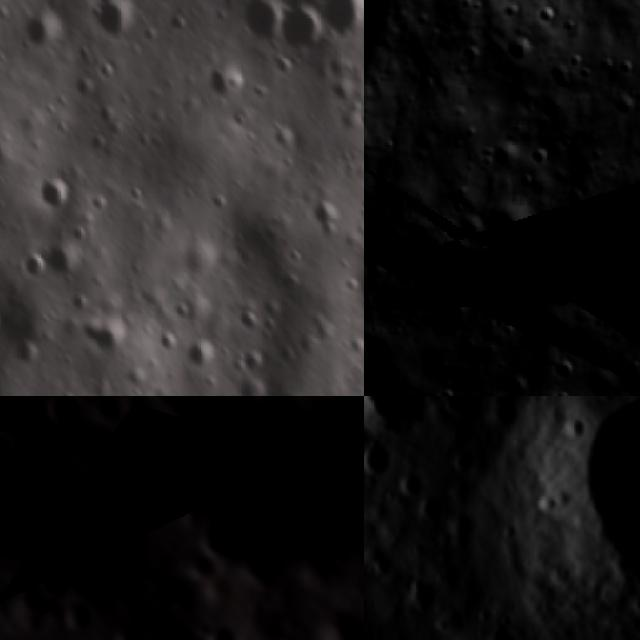crater: (466, 396, 640, 640), (364, 396, 467, 455), (477, 194, 553, 257), (85, 0, 151, 49), (591, 274, 640, 337), (72, 313, 139, 358), (277, 0, 325, 58), (18, 5, 68, 56), (509, 276, 560, 323), (313, 0, 364, 42), (32, 169, 80, 213), (546, 348, 590, 396), (237, 0, 280, 43), (180, 336, 223, 376), (204, 60, 244, 97), (5, 334, 46, 368), (329, 99, 364, 137), (14, 248, 48, 284), (268, 122, 303, 156), (548, 60, 576, 102), (526, 143, 560, 176), (580, 207, 615, 238), (92, 100, 126, 131), (390, 260, 424, 291), (489, 137, 521, 169), (612, 52, 640, 87), (621, 186, 640, 229), (70, 74, 96, 105), (414, 69, 443, 94), (533, 0, 560, 26), (562, 205, 585, 232), (560, 12, 583, 36), (205, 625, 240, 640), (433, 382, 467, 396), (502, 0, 523, 22), (566, 50, 588, 70), (576, 65, 599, 83), (596, 57, 616, 77), (620, 379, 640, 396)
